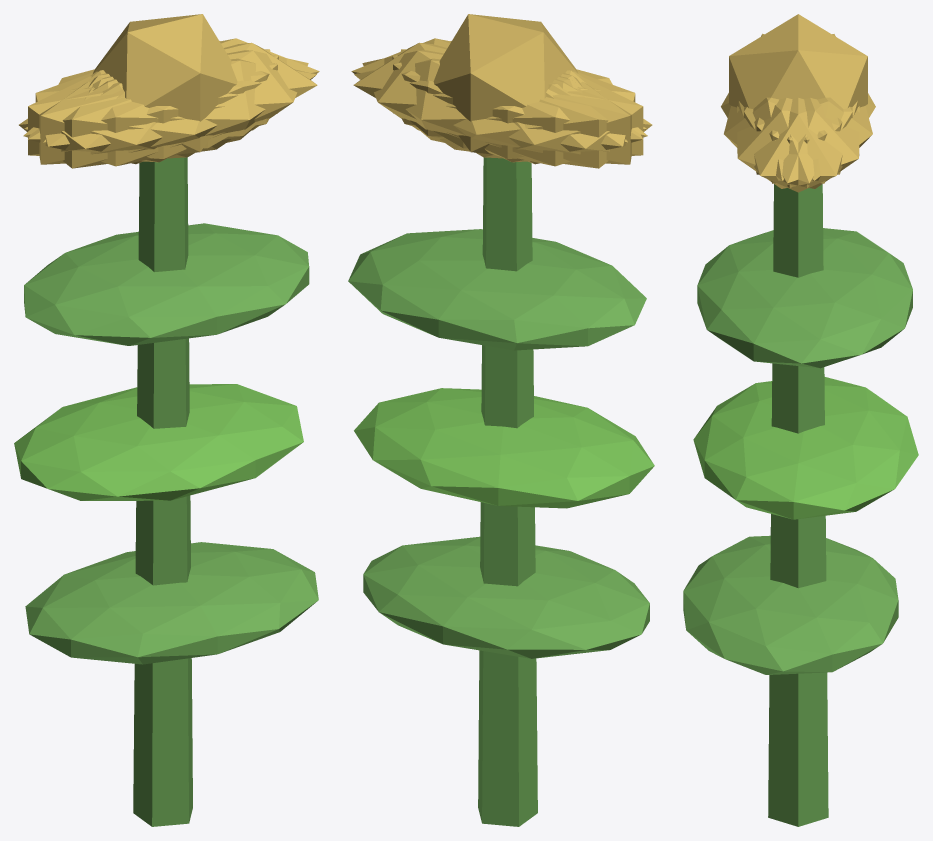
Rendered from oxalis-triangularis.glb.
3 renders of one model, left to right at view 1: azimuth 30°, elevation 25°; view 2: azimuth 150°, elevation 25°; view 3: azimuth 270°, elevation 25°, orthographic.
Parts seen in each view (by area): view 1: leaf0, leaf2, leaf1, stem, center, petal1, petal6, petal2, petal5, petal7, petal0, petal4 (+2 smaller); view 2: leaf1, leaf2, leaf0, stem, center, petal8, petal3, petal7, petal4, petal2, petal0, petal5 (+2 smaller); view 3: leaf2, leaf1, leaf0, stem, center, petal0, petal4, petal5, petal1, petal8.
Part boxes in pixels (x1,y1,x2,y2): leaf0: (25,542,318,664); leaf2: (24,223,309,345); leaf1: (14,384,303,500); stem: (133,157,192,826); center: (93,14,237,154); petal1: (23,58,316,166); petal6: (19,71,230,168); petal2: (39,49,270,164); petal5: (43,50,308,158); petal7: (28,55,278,162); petal0: (92,42,317,148); petal4: (24,38,319,139); leaf1: (354,388,654,508); leaf2: (348,229,646,350); leaf0: (363,536,649,658); stem: (478,157,537,826); center: (433,14,578,154); petal8: (354,58,647,166); petal3: (440,71,652,168); petal7: (400,49,631,164); petal4: (362,50,627,158); petal2: (392,55,643,162); petal0: (353,42,578,148); petal5: (351,38,646,139); leaf2: (697,228,912,368); leaf1: (693,377,918,519); leaf0: (683,535,898,674); stem: (768,184,828,826); center: (729,14,867,108); petal0: (738,97,857,192); petal4: (744,97,859,188); petal5: (737,97,852,188); petal1: (724,97,842,180); petal8: (754,97,872,180).
Bounding box in the file's own units: 0.1452 × 0.3799 × 0.1038.
